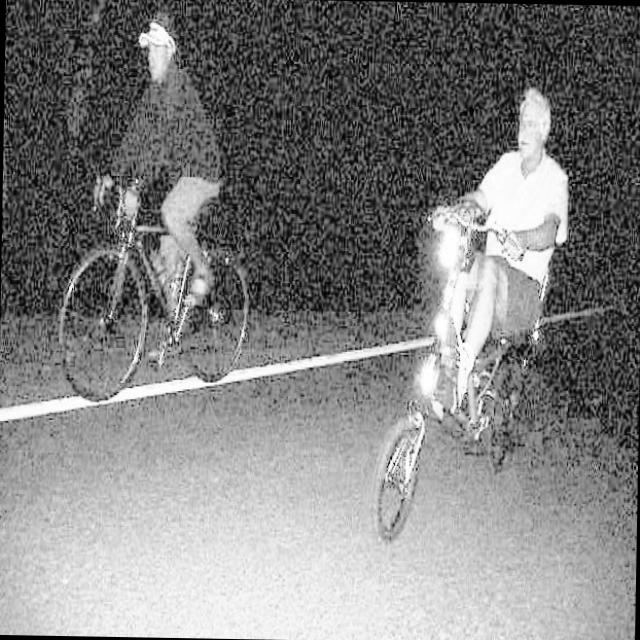Bicycle: (376, 199, 532, 520), (60, 180, 256, 400)
Person: (474, 75, 568, 362), (124, 16, 214, 238)
